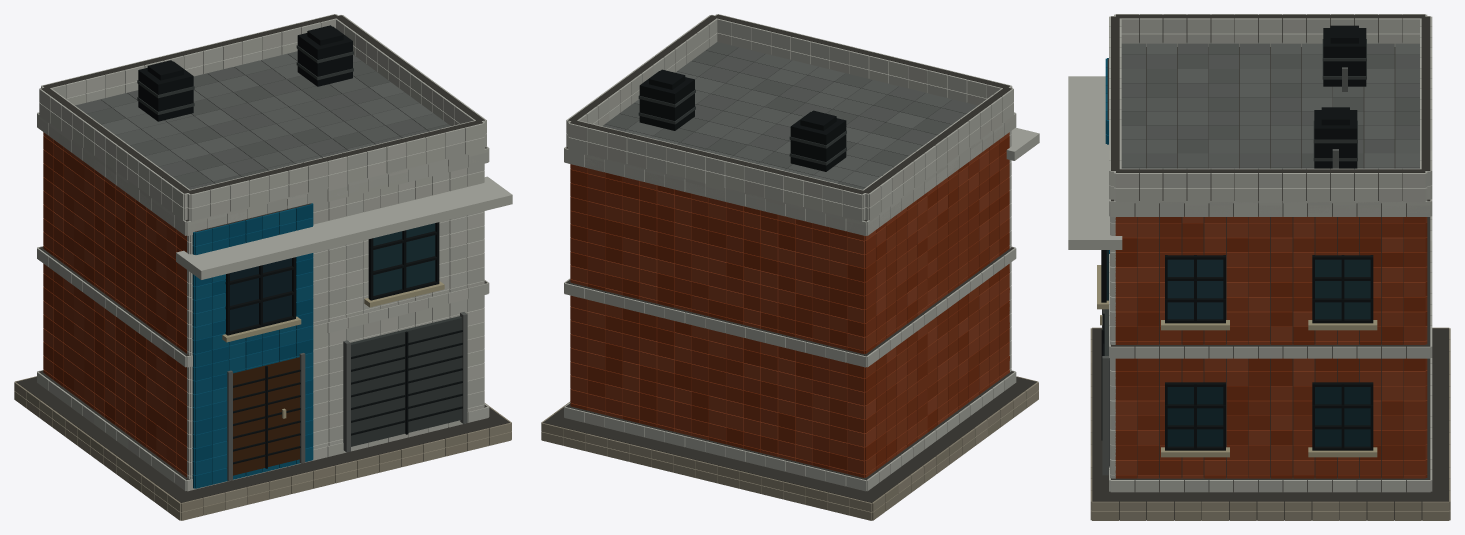
File: SM_Mapa_052.fbx
3 views of the same model, side by side, from view 1: azimuth 30°, elevation 25°; view 2: azimuth 150°, elevation 25°; view 3: azimuth 270°, elevation 25° (orthographic). The views are drawn at different scales.
Visible parts, largest first — view 1: SM_Mapa_052; view 2: SM_Mapa_052; view 3: SM_Mapa_052.
Boxes of the visible parts, <box> form: SM_Mapa_052: <box>14,14,512,520</box>; SM_Mapa_052: <box>541,14,1039,520</box>; SM_Mapa_052: <box>1068,14,1450,520</box>.
Bounding box in the file's own units: 8 × 7.4 × 7.88.
